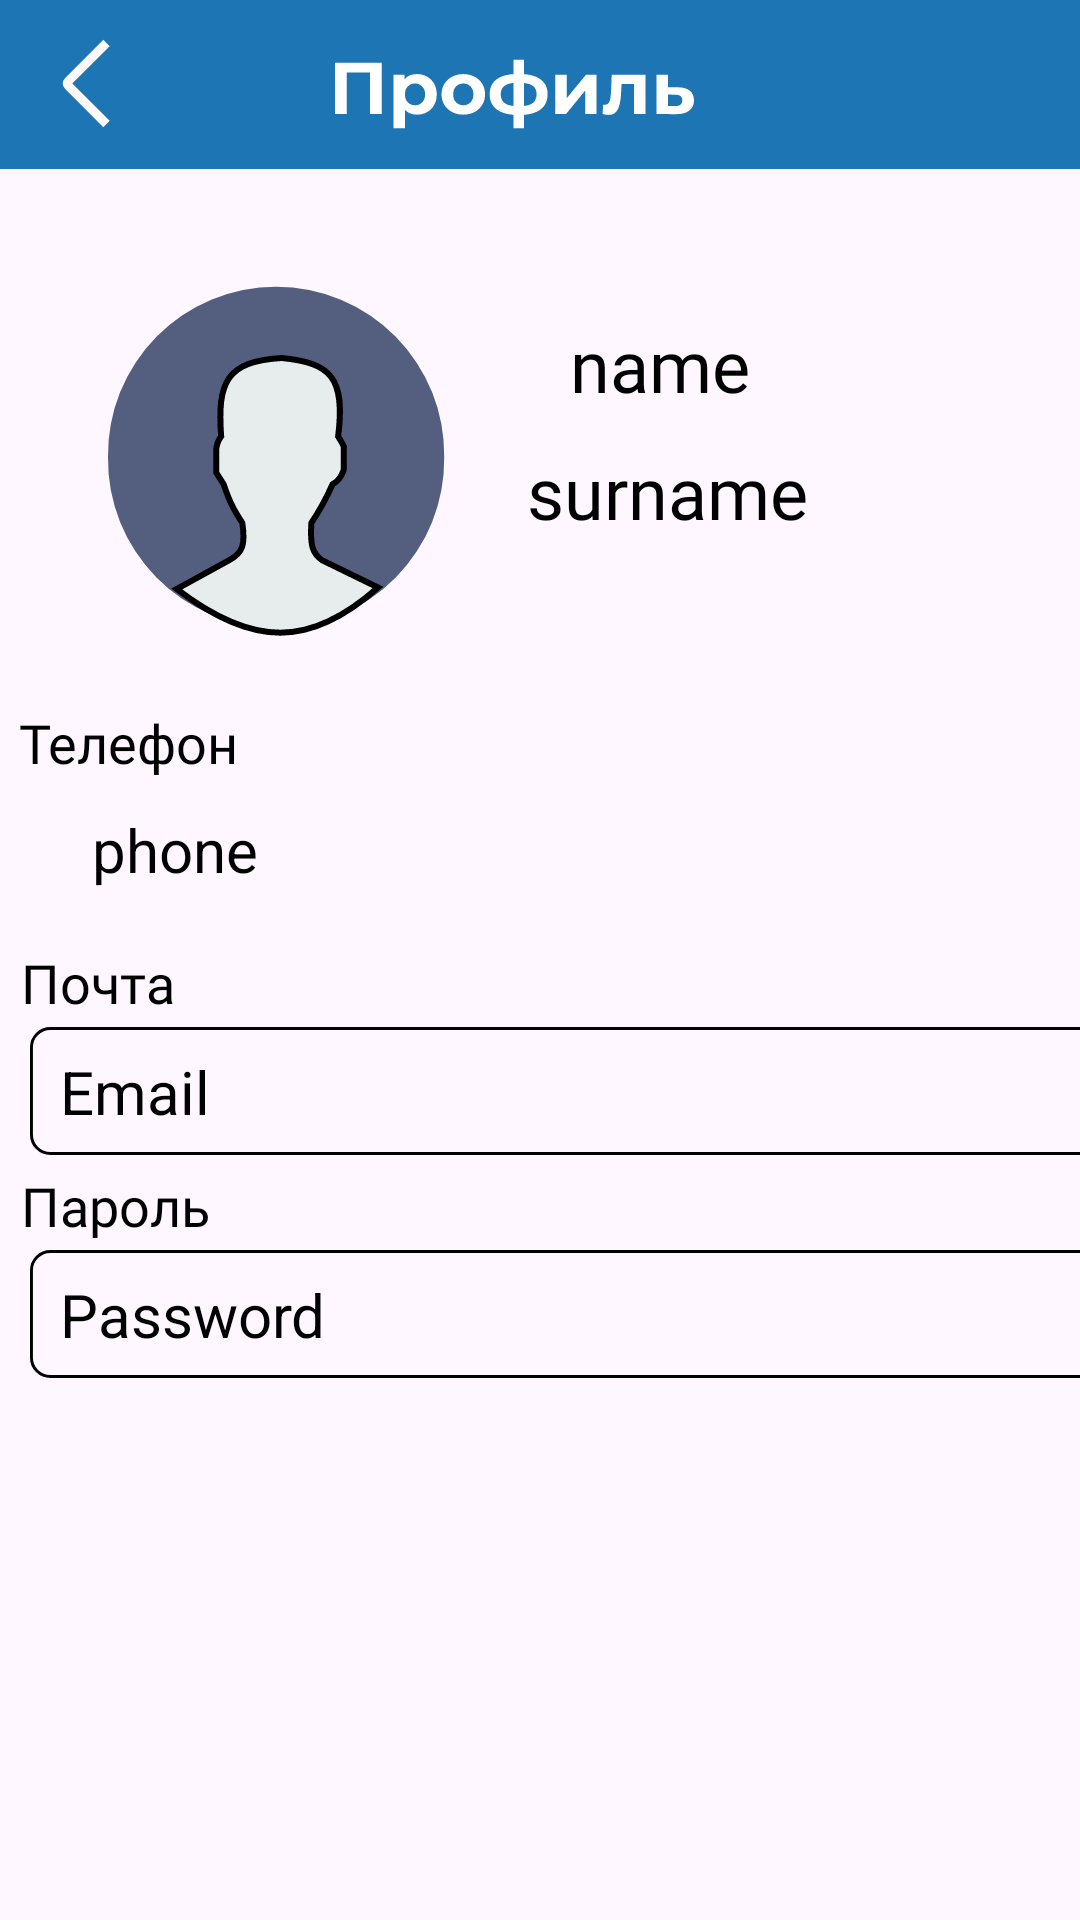

Point at icon controls on the screen. Image size 1080w x 1920h, points as [x,y].
deviceback: [86,83]
